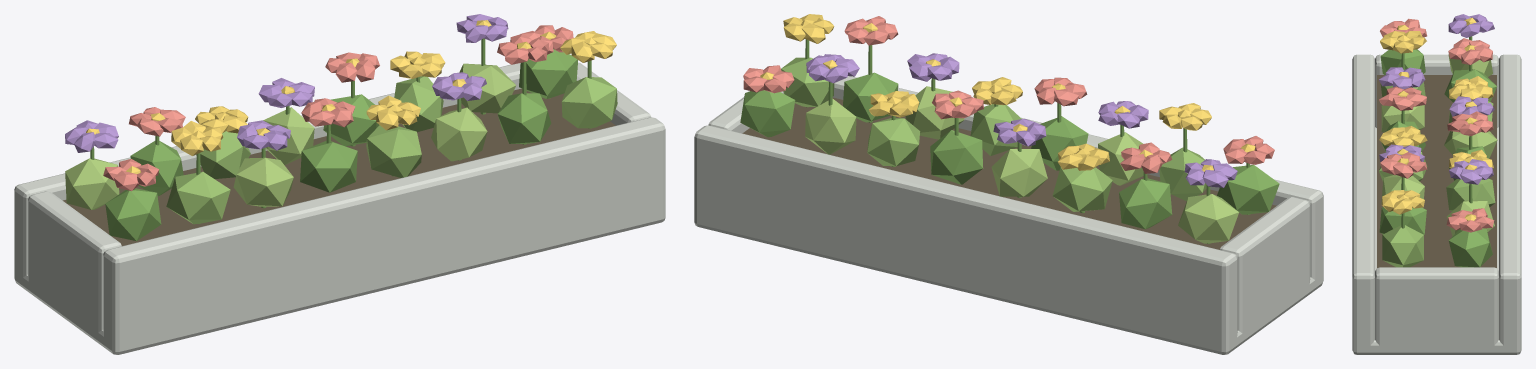
The model's file is SIMUS_Flowerbed.glb.
The picture shows the model from 3 angles, left to right: view 1: azimuth 30°, elevation 25°; view 2: azimuth 150°, elevation 25°; view 3: azimuth 270°, elevation 25°; orthographic projection. The views are drawn at different scales.
Parts seen in each view (by area): view 1: Flowerbed Warm concrete, Flowerbed Leaf green 0, Flowerbed Leaf green 1, Flowerbed Leaf green 2, Soil, Flowerbed Flower yellow, Flowerbed Flower coral, Flowerbed Flower violet; view 2: Flowerbed Warm concrete, Flowerbed Leaf green 0, Flowerbed Leaf green 2, Flowerbed Leaf green 1, Soil, Flowerbed Flower coral, Flowerbed Flower yellow, Flowerbed Flower violet; view 3: Flowerbed Warm concrete, Soil, Flowerbed Flower coral, Flowerbed Leaf green 0, Flowerbed Flower yellow, Flowerbed Flower violet, Flowerbed Leaf green 2, Flowerbed Leaf green 1.
Part boxes in pixels (bbox=[...]): Flowerbed Warm concrete: bbox=[14, 62, 665, 354]; Flowerbed Leaf green 0: bbox=[90, 38, 591, 241]; Flowerbed Leaf green 1: bbox=[166, 76, 617, 224]; Flowerbed Leaf green 2: bbox=[65, 63, 515, 209]; Soil: bbox=[63, 88, 615, 245]; Flowerbed Flower yellow: bbox=[86, 20, 616, 173]; Flowerbed Flower coral: bbox=[103, 25, 573, 191]; Flowerbed Flower violet: bbox=[65, 14, 508, 152]; Flowerbed Warm concrete: bbox=[694, 76, 1323, 354]; Flowerbed Leaf green 0: bbox=[740, 39, 1279, 243]; Flowerbed Leaf green 2: bbox=[805, 86, 1238, 243]; Flowerbed Leaf green 1: bbox=[781, 57, 1206, 211]; Soil: bbox=[742, 97, 1276, 249]; Flowerbed Flower coral: bbox=[743, 16, 1274, 173]; Flowerbed Flower yellow: bbox=[760, 14, 1255, 171]; Flowerbed Flower violet: bbox=[806, 53, 1237, 187]; Flowerbed Warm concrete: bbox=[1352, 54, 1521, 354]; Soil: bbox=[1377, 75, 1496, 267]; Flowerbed Flower coral: bbox=[1379, 18, 1494, 232]; Flowerbed Leaf green 0: bbox=[1379, 36, 1496, 267]; Flowerbed Flower yellow: bbox=[1379, 17, 1493, 220]; Flowerbed Flower violet: bbox=[1379, 14, 1494, 184]; Flowerbed Leaf green 2: bbox=[1381, 54, 1497, 236]; Flowerbed Leaf green 1: bbox=[1379, 82, 1495, 267].
Size of the model in its own units: 2.8 by 0.9003 by 0.9.
